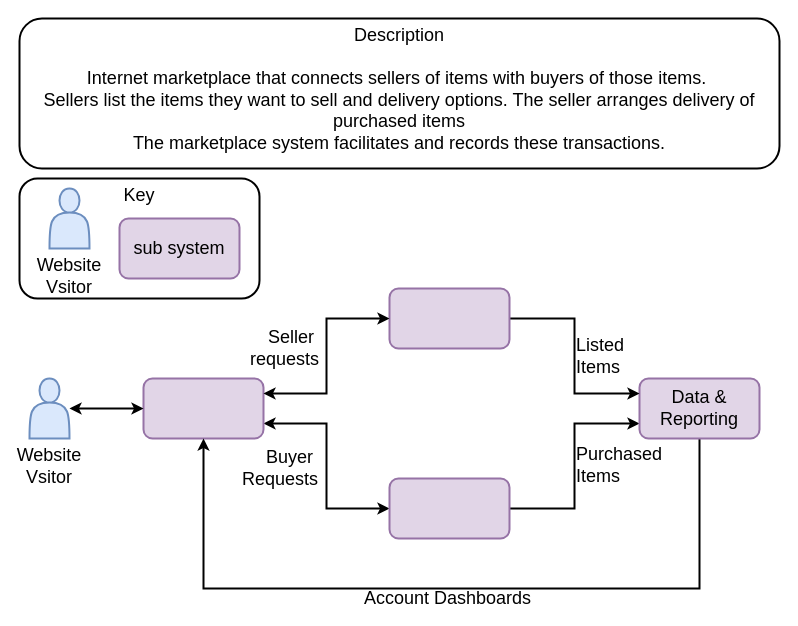
The diagram is 798 pixels wide and 626 high, and some of its shapes have lost their labels. Each missing label, with the centre of its shape:
Listing Processing: (x=449, y=318)
Purchase Processing: (x=449, y=508)
User Interface: (x=203, y=408)
